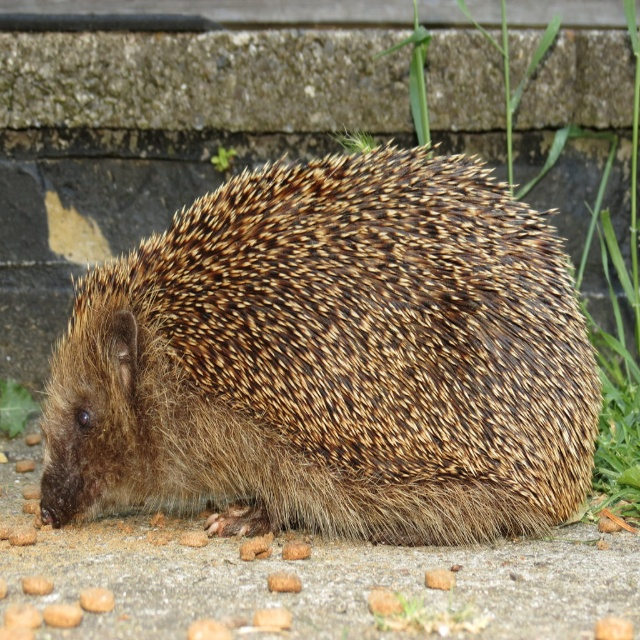Hedgehog: (33, 134, 606, 551)
